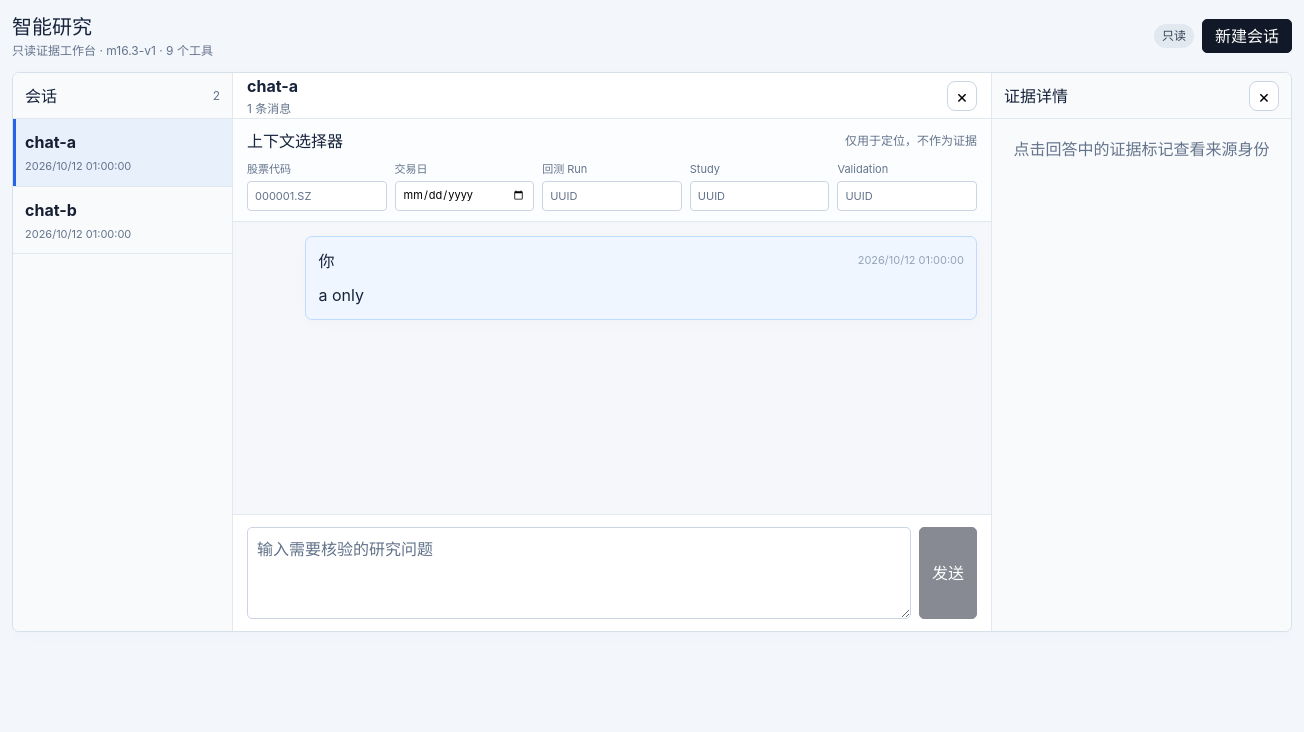
Test case: does not show another chat's messages while its history is still loading
Click the button "chat-b 2026/10/12 01:00:00". click: (122, 220)
box: 13,186 -> 232,254
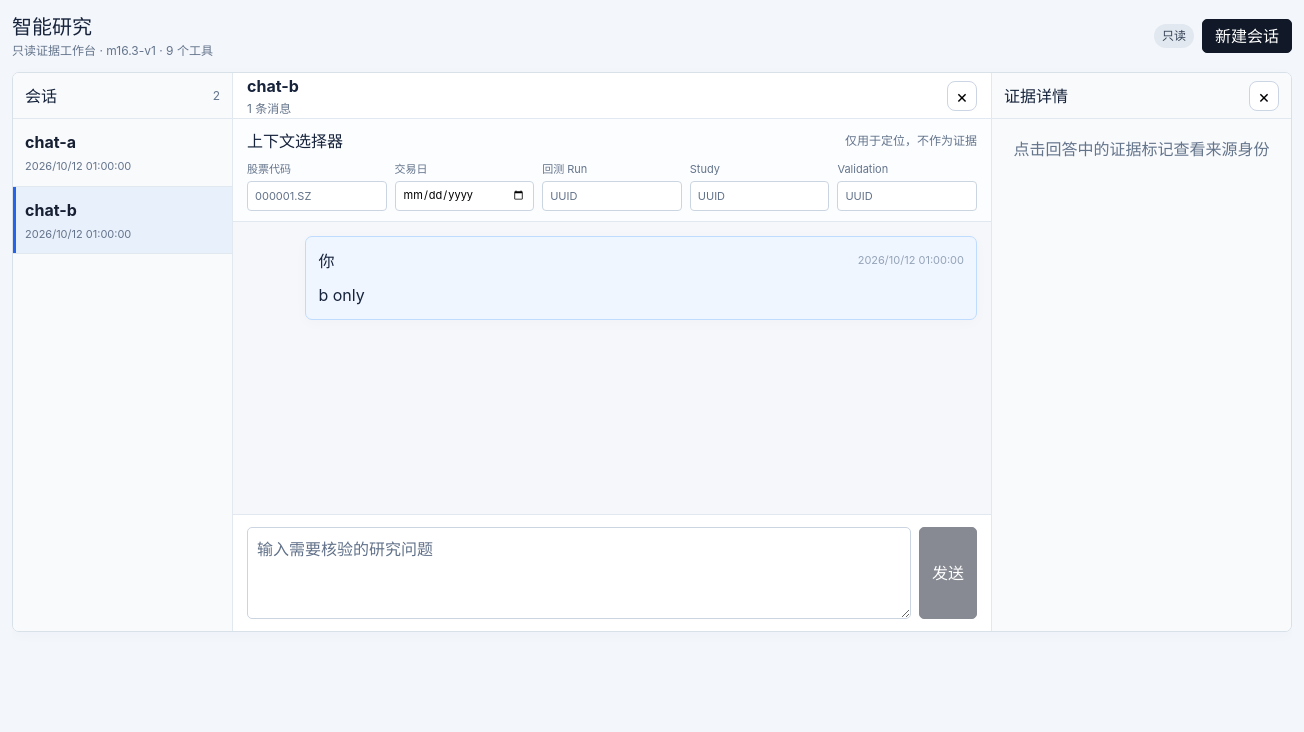
Now the text "a only" is gone
Now the text "b only" is shown, box 318,284 -> 365,304
